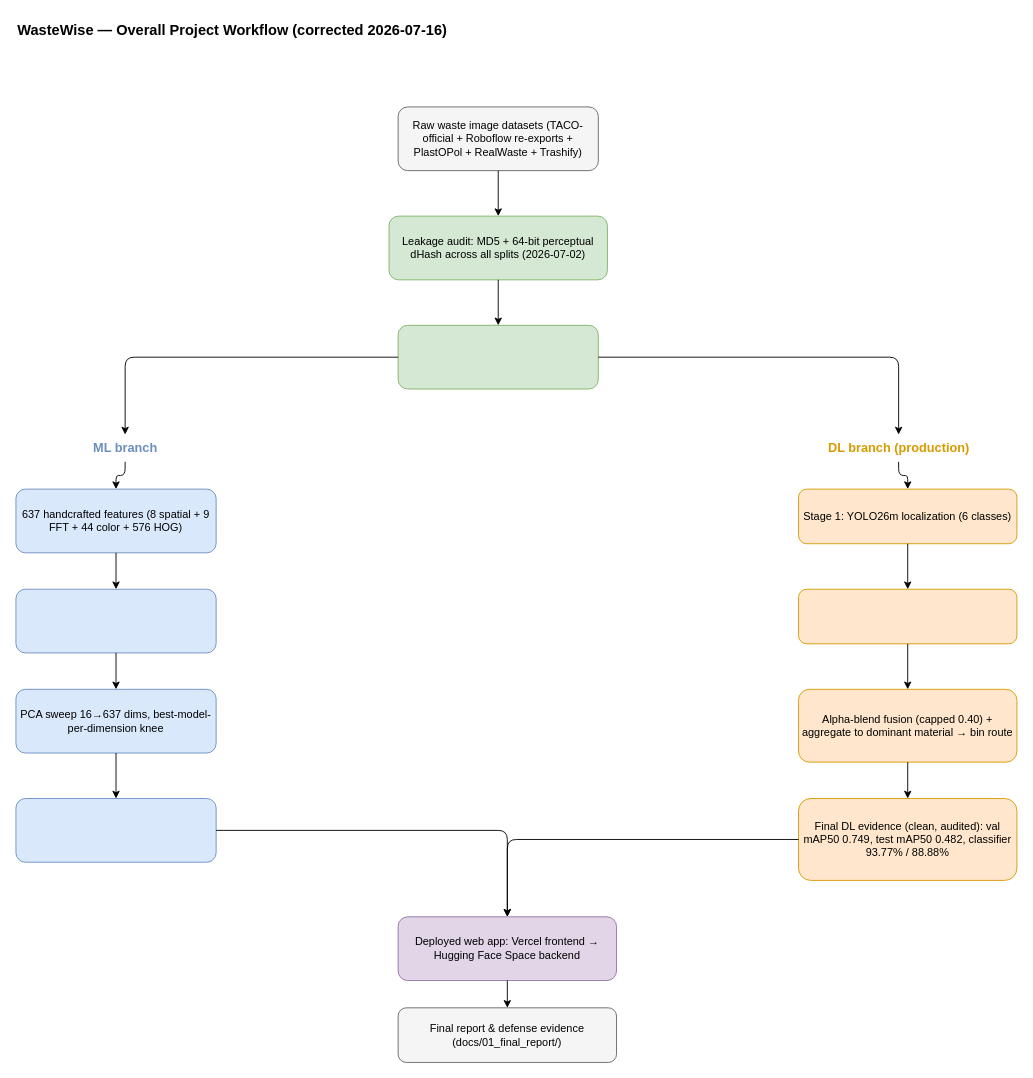
Some shapes in this 1033 by 1078 pixel diagram are drawn without their labels. Here are the shapes that lost their labels. From the top down, the box of each, then its label:
(397, 324, 598, 389): Clean-split quarantine → dataset cleaning, object crops & labels
(15, 588, 216, 653): Classical model sweep: DT / SVM / RF / ExtraTrees / XGBoost / LogReg
(798, 588, 1017, 644): Stage 2: ConvNeXt-Tiny + 637-feature crop classifier
(15, 798, 216, 862): Final ML evidence: ExtraTrees 73.8% acc (7-class crops)
